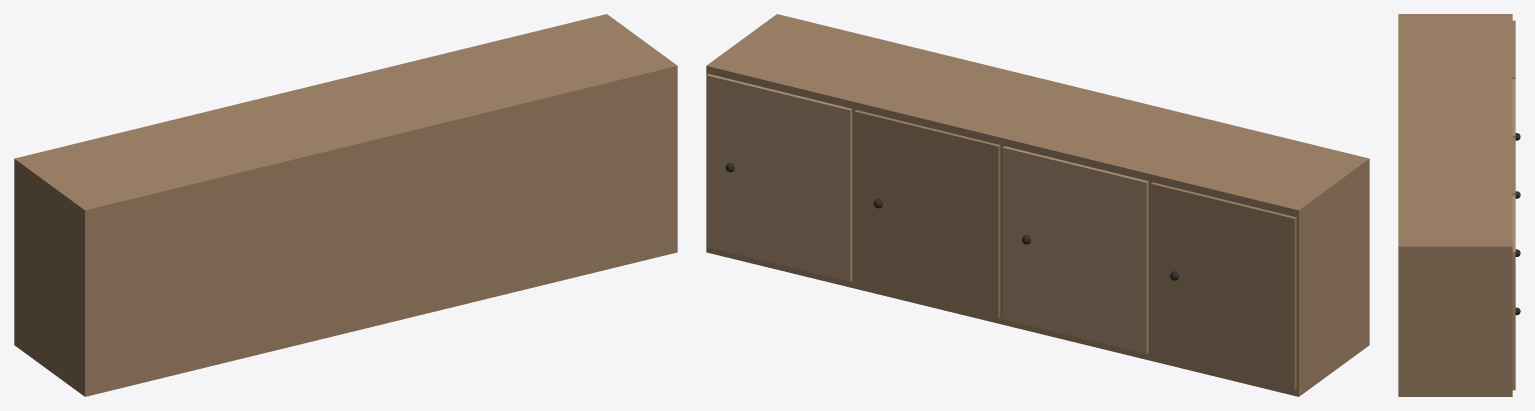
Rendered from jana.glb.
The picture shows the model from 3 angles, left to right: view 1: azimuth 30°, elevation 25°; view 2: azimuth 150°, elevation 25°; view 3: azimuth 270°, elevation 25°; orthographic projection. The views are drawn at different scales.
Parts seen in each view (by area): view 1: cabinet; view 2: cabinet, door-1, door-4, door-3, door-2; view 3: cabinet, door-4, door-1, door-2, door-3.
Boxes of the visible parts, x1=… form: cabinet: x1=14, y1=14, x2=677, y2=396; cabinet: x1=706, y1=14, x2=1369, y2=396; door-1: x1=1150, y1=182, x2=1296, y2=390; door-4: x1=706, y1=74, x2=852, y2=281; door-3: x1=854, y1=110, x2=1000, y2=317; door-2: x1=1002, y1=146, x2=1148, y2=354; cabinet: x1=1398, y1=14, x2=1512, y2=396; door-4: x1=1512, y1=195, x2=1515, y2=390; door-1: x1=1512, y1=20, x2=1515, y2=78; door-2: x1=1512, y1=79, x2=1515, y2=137; door-3: x1=1512, y1=137, x2=1515, y2=195.
Size of the model in its own units: 2.56 by 0.77 by 0.5671.
